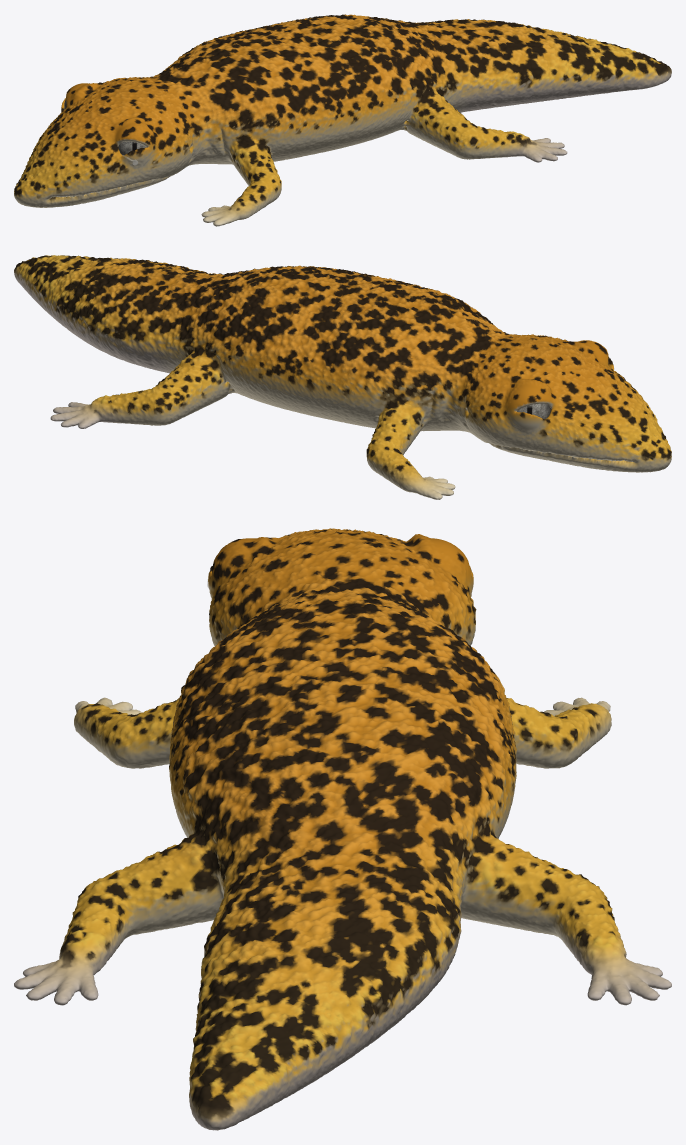
The picture shows the model from 3 angles, top to bottom: view 1: azimuth 30°, elevation 25°; view 2: azimuth 150°, elevation 25°; view 3: azimuth 270°, elevation 25°; orthographic projection. The views are drawn at different scales.
Visible parts, largest first — view 1: Gecko; view 2: Gecko; view 3: Gecko.
Part boxes in pixels (x1=…): Gecko: x1=14, y1=14, x2=671, y2=226; Gecko: x1=14, y1=255, x2=671, y2=499; Gecko: x1=14, y1=528, x2=671, y2=1130.
Size of the model in its own units: 10.95 by 1.68 by 5.61.
Materials: 3 (1 with a texture image).
